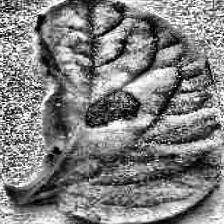disease: (5, 0, 223, 224)
